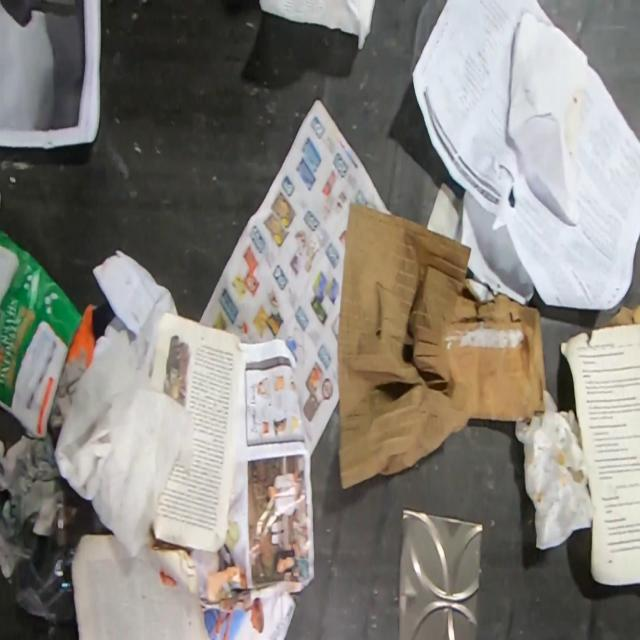cardboard: (336, 202, 545, 491), (0, 228, 84, 438), (60, 301, 116, 387), (594, 299, 640, 331)
metal: (397, 507, 484, 639)
rigid_plastic: (17, 500, 82, 625)
